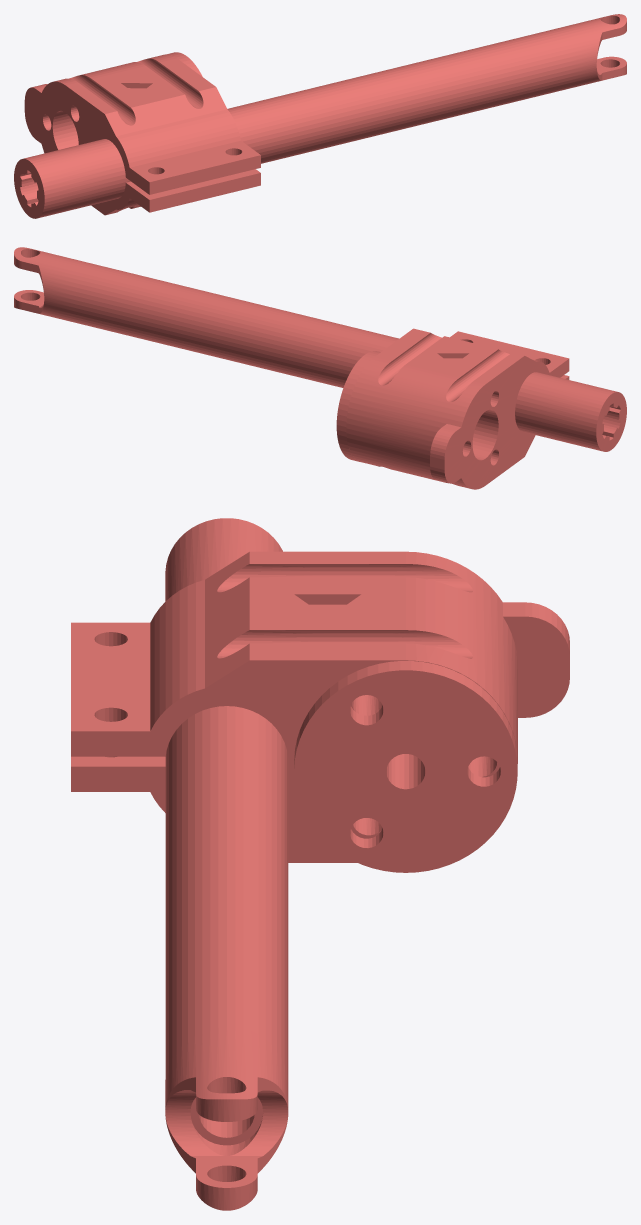
Rendered from linear_actuator_tube.dae.
3 views of the same model, one above another, from view 1: azimuth 30°, elevation 25°; view 2: azimuth 150°, elevation 25°; view 3: azimuth 270°, elevation 25° (orthographic). The views are drawn at different scales.
Parts seen in each view (by area): view 1: ensamblaje_tubo; view 2: ensamblaje_tubo; view 3: ensamblaje_tubo.
Part boxes in pixels (box(x1,y1,x2,y2)): ensamblaje_tubo: box(14, 14, 626, 218); ensamblaje_tubo: box(14, 247, 626, 489); ensamblaje_tubo: box(71, 518, 569, 1210).
Bounding box in the file's own units: 0.123 × 0.0446 × 0.02.
